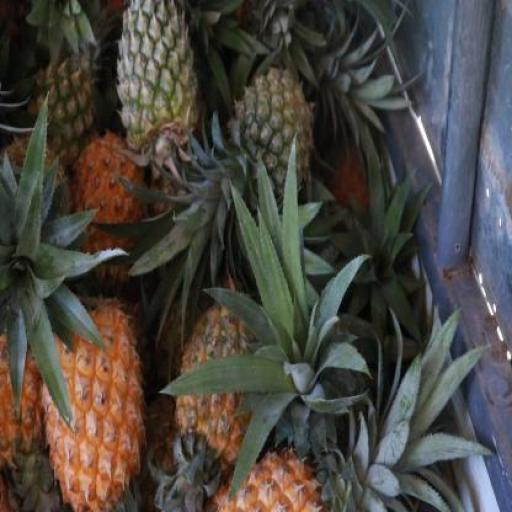Pineapple - v8 v1: (34, 293, 148, 512)
